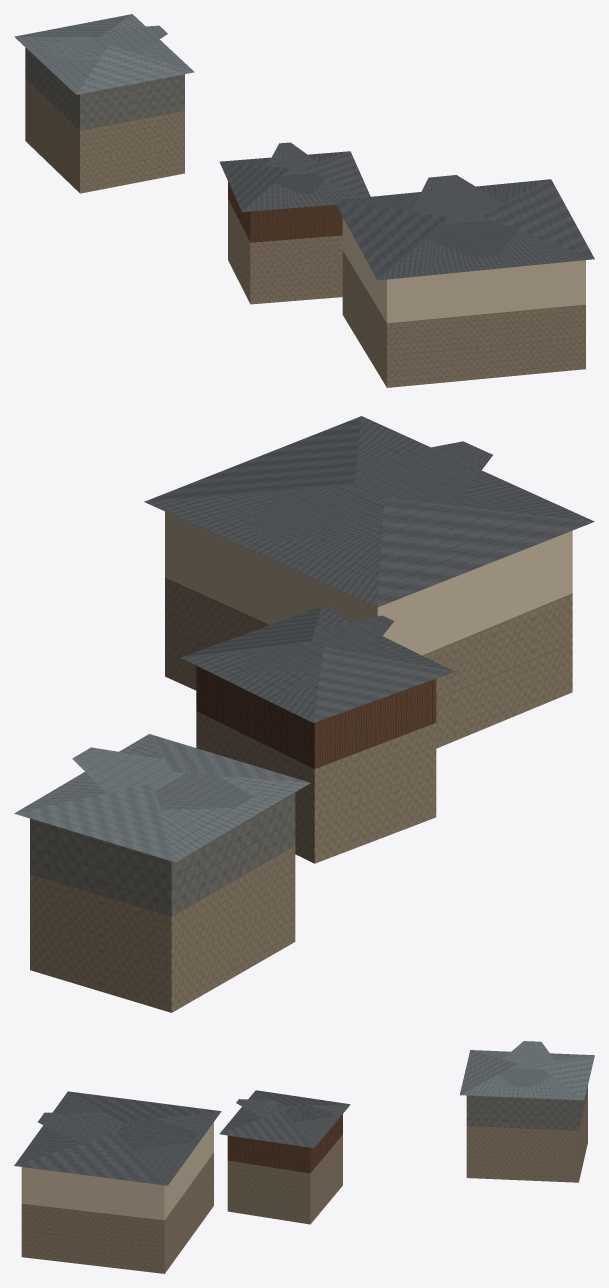
Rendered from bld_c23_46_393.gltf.
3 renders of one model, top to bottom at view 1: azimuth 30°, elevation 25°; view 2: azimuth 150°, elevation 25°; view 3: azimuth 270°, elevation 25°, orthographic. The views are drawn at different scales.
Parts seen in each view (by area): view 1: bld_c23_46_393; view 2: bld_c23_46_393; view 3: bld_c23_46_393.
Boxes of the visible parts, x1=… form: bld_c23_46_393: x1=14, y1=14, x2=594, y2=387; bld_c23_46_393: x1=14, y1=416, x2=594, y2=1012; bld_c23_46_393: x1=14, y1=1041, x2=594, y2=1273.
Size of the model in its own units: 22.58 by 10.9 by 47.02.
6 materials, 6 textured.
